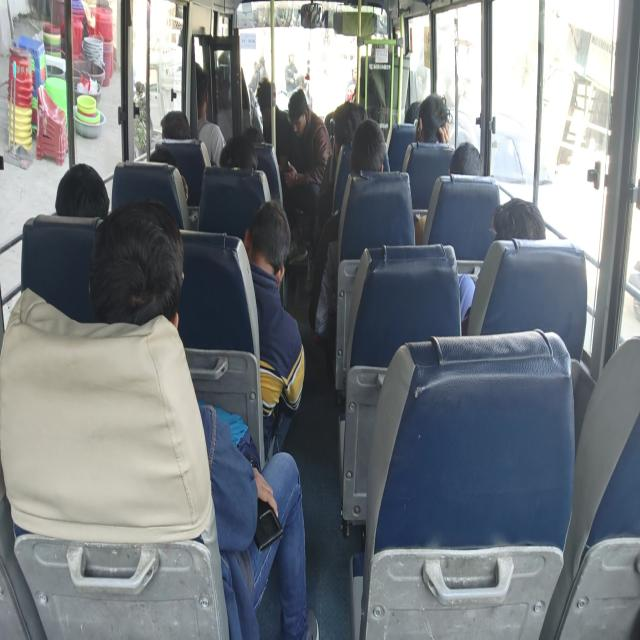person: (98, 225, 182, 322), (62, 166, 110, 228), (258, 199, 298, 271), (499, 205, 549, 250), (145, 144, 191, 188), (352, 130, 388, 182), (181, 65, 214, 112), (419, 96, 451, 141), (161, 105, 195, 147), (331, 99, 366, 138), (225, 140, 258, 178), (291, 86, 315, 136), (364, 28, 392, 70), (453, 148, 485, 182), (216, 32, 240, 68), (258, 84, 278, 118)
